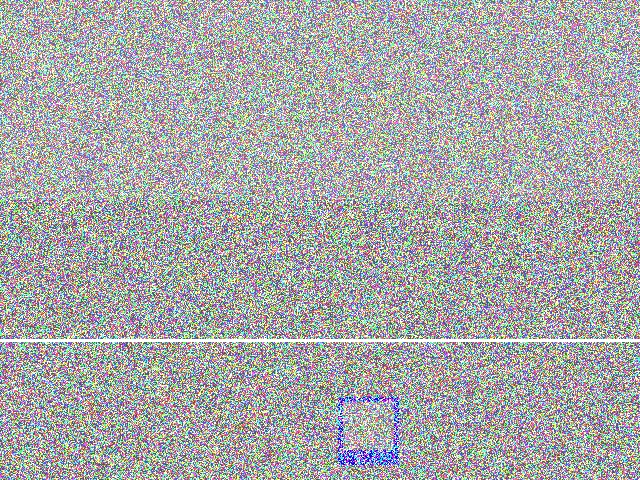bus: (207, 143, 375, 269)
motorcycle: (142, 187, 275, 300), (180, 329, 303, 434)
